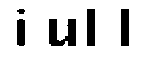i: (14, 3, 30, 52)
l: (115, 6, 143, 48), (87, 7, 104, 51)
u: (42, 15, 77, 52)
